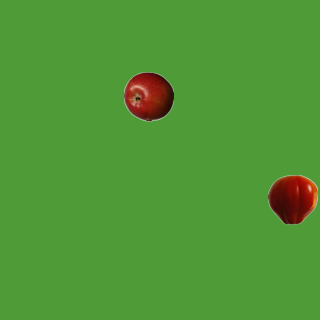Apple Braeburn: (123, 71, 173, 121)
Tomato 1: (267, 174, 317, 224)
